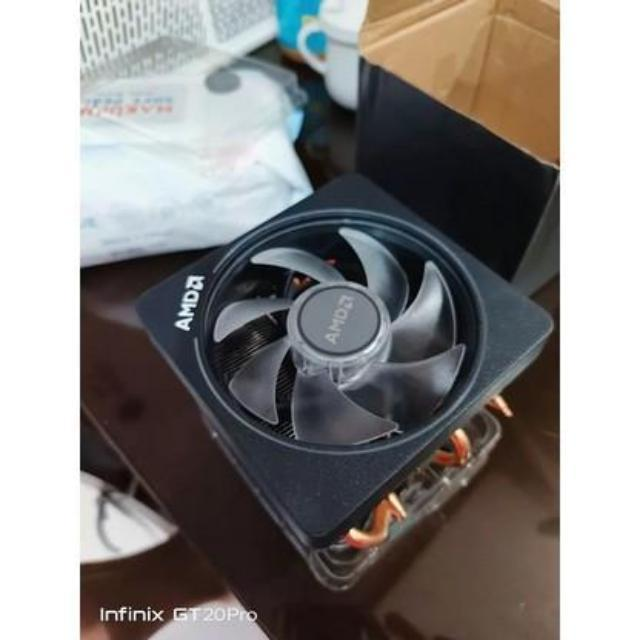CPU_Fan: (136, 168, 556, 586)
